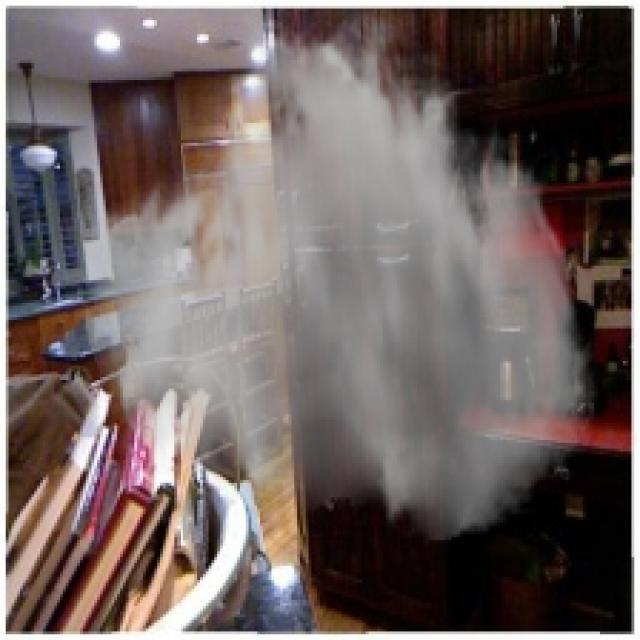Smoke: (77, 3, 600, 546)
